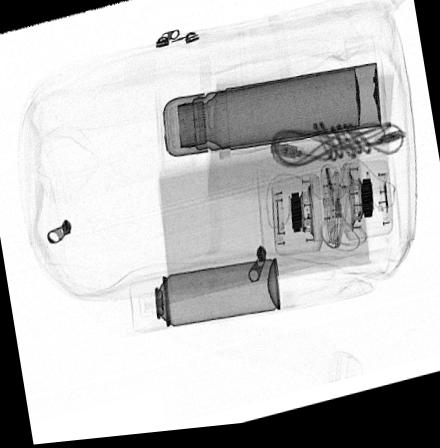Sprayer: (126, 263, 280, 336)
